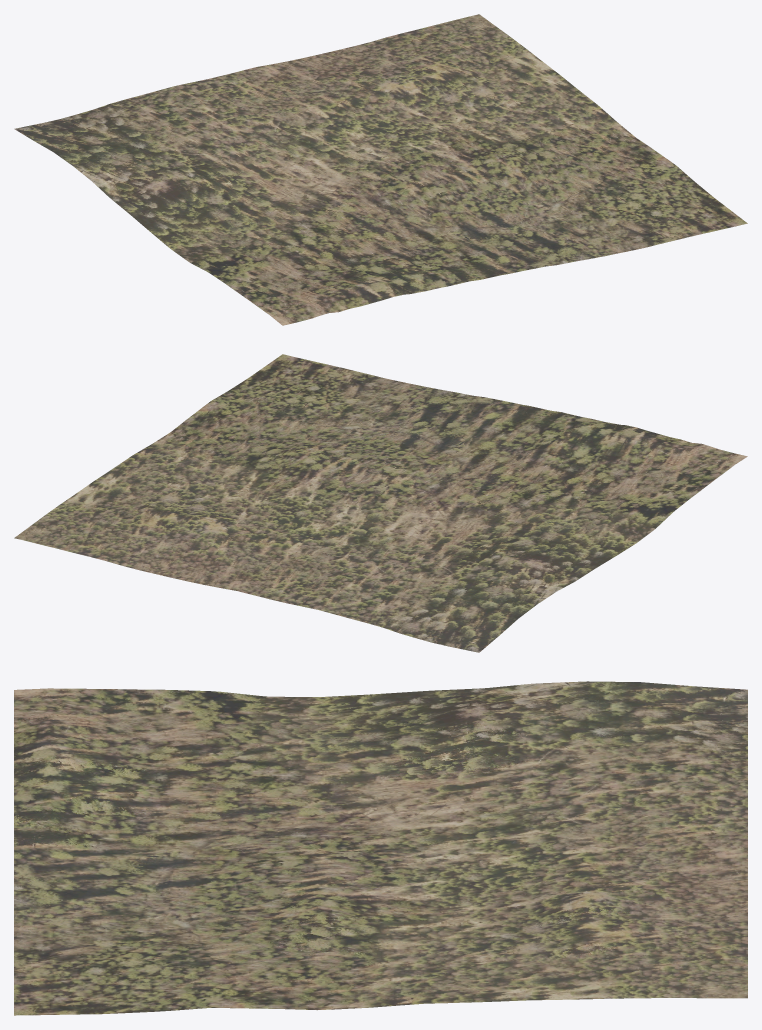
Rendered from CM_Terrain_24493121_6814060.fbx.
The picture shows the model from 3 angles, top to bottom: view 1: azimuth 30°, elevation 25°; view 2: azimuth 150°, elevation 25°; view 3: azimuth 270°, elevation 25°; orthographic projection. The views are drawn at different scales.
Parts seen in each view (by area): view 1: CM_Terrain_24493121_6814060_LOD0; view 2: CM_Terrain_24493121_6814060_LOD0; view 3: CM_Terrain_24493121_6814060_LOD0.
Boxes of the visible parts, x1,y1,x2,y2 form: CM_Terrain_24493121_6814060_LOD0: [14, 14, 747, 325]; CM_Terrain_24493121_6814060_LOD0: [14, 354, 747, 652]; CM_Terrain_24493121_6814060_LOD0: [14, 681, 747, 1015].
Size of what is drawn, in the model's own units: 205 by 7.76 by 205.
